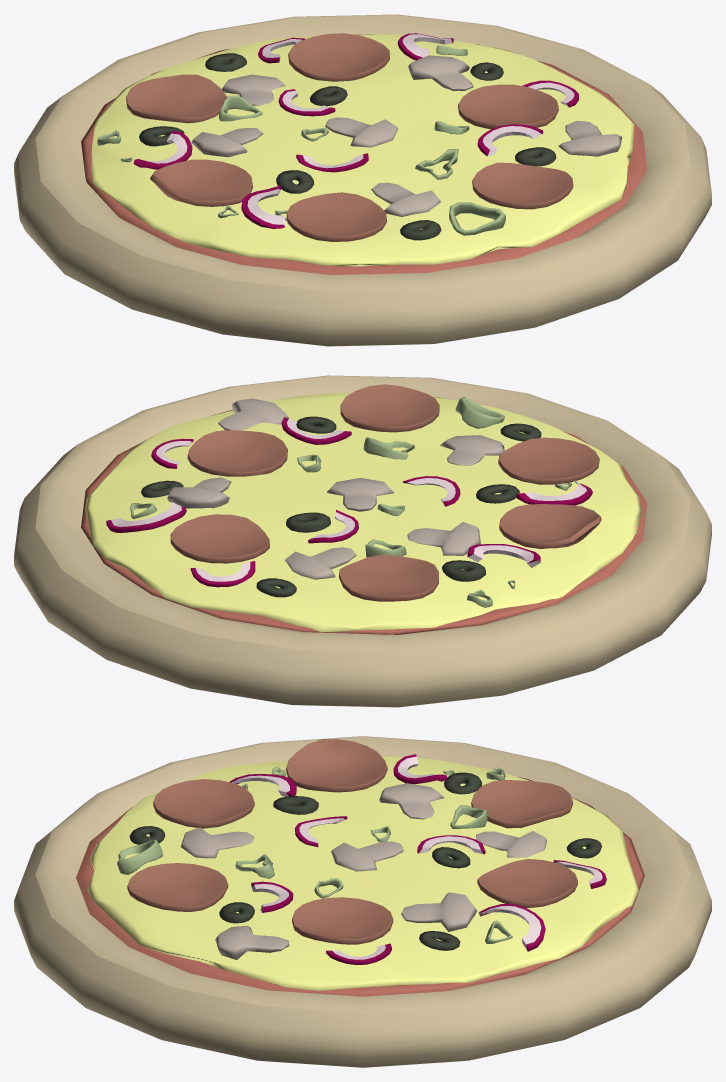
Rendered from thick_mushroom_onion_sausage.gltf.
3 views of the same model, one above another, from view 1: azimuth 30°, elevation 25°; view 2: azimuth 150°, elevation 25°; view 3: azimuth 270°, elevation 25° (orthographic).
Parts seen in each view (by area): view 1: thick, cheese, polySurface143, polySurface145, polySurface147, polySurface146, polySurface144, polySurface142, polySurface128, polySurface162, polySurface129, polySurface163 (+18 smaller); view 2: thick, cheese, polySurface147, polySurface142, polySurface145, polySurface144, polySurface143, polySurface146, polySurface130, polySurface162, polySurface161, polySurface128 (+18 smaller); view 3: thick, cheese, polySurface146, polySurface144, polySurface143, polySurface142, polySurface145, polySurface147, polySurface128, polySurface162, polySurface130, polySurface163 (+17 smaller).
Boxes of the visible parts, bbox=[...] form: thick: bbox=[14, 14, 711, 346]; cheese: bbox=[91, 34, 634, 266]; polySurface143: bbox=[286, 192, 386, 241]; polySurface145: bbox=[126, 74, 226, 123]; polySurface147: bbox=[288, 33, 389, 81]; polySurface146: bbox=[150, 159, 252, 206]; polySurface144: bbox=[472, 162, 573, 209]; polySurface142: bbox=[458, 84, 558, 129]; polySurface128: bbox=[408, 55, 473, 90]; polySurface162: bbox=[558, 121, 621, 156]; polySurface129: bbox=[371, 182, 440, 216]; polySurface163: bbox=[325, 117, 397, 147]; thick: bbox=[14, 375, 711, 707]; cheese: bbox=[85, 393, 641, 631]; polySurface147: bbox=[170, 514, 269, 563]; polySurface142: bbox=[187, 430, 287, 476]; polySurface145: bbox=[339, 554, 438, 601]; polySurface144: bbox=[340, 384, 439, 432]; polySurface143: bbox=[498, 437, 599, 484]; polySurface146: bbox=[499, 504, 601, 548]; polySurface130: bbox=[407, 522, 480, 555]; polySurface162: bbox=[218, 398, 288, 430]; polySurface161: bbox=[285, 547, 356, 579]; polySurface128: bbox=[167, 477, 231, 508]; thick: bbox=[14, 736, 711, 1067]; cheese: bbox=[87, 756, 638, 990]; polySurface146: bbox=[286, 739, 387, 792]; polySurface144: bbox=[127, 863, 228, 911]; polySurface143: bbox=[153, 779, 254, 828]; polySurface142: bbox=[292, 897, 393, 944]; polySurface145: bbox=[471, 780, 572, 828]; polySurface147: bbox=[477, 859, 577, 907]; polySurface128: bbox=[401, 892, 476, 931]; polySurface162: bbox=[215, 925, 289, 959]; polySurface130: bbox=[379, 783, 443, 819]; polySurface163: bbox=[331, 841, 403, 871].
Size of the model in its own units: 0.1035 by 0.0141 by 0.1035.
